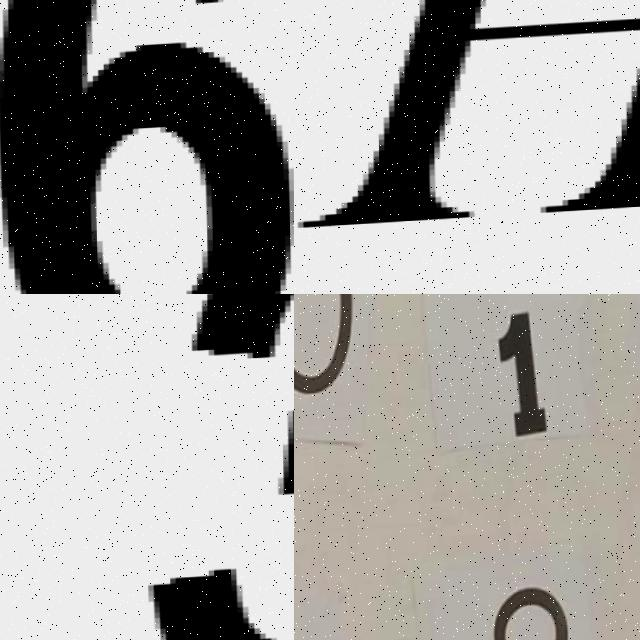0: (294, 294, 358, 399)
1: (487, 300, 554, 447)
3: (131, 294, 294, 640)
6: (0, 0, 294, 294)
9: (479, 575, 573, 640)
H: (301, 0, 640, 227)
